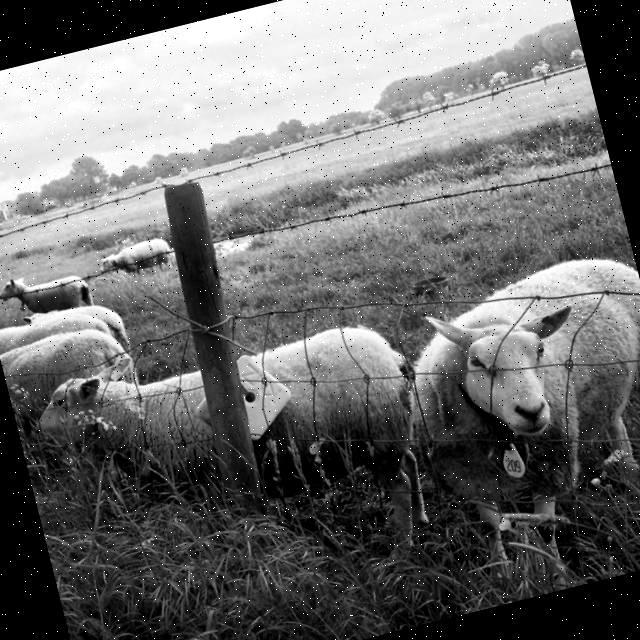sheep: (412, 256, 640, 550), (39, 325, 422, 491), (0, 329, 134, 418), (24, 304, 129, 350), (0, 313, 108, 353), (0, 277, 92, 313)
